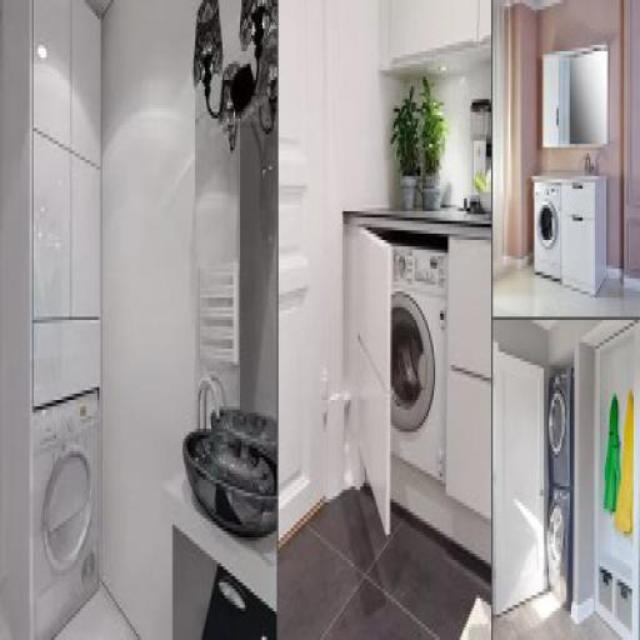Washing-Machine: (32, 393, 102, 639), (388, 237, 448, 475), (548, 367, 574, 487), (536, 173, 562, 271), (548, 488, 568, 604)
